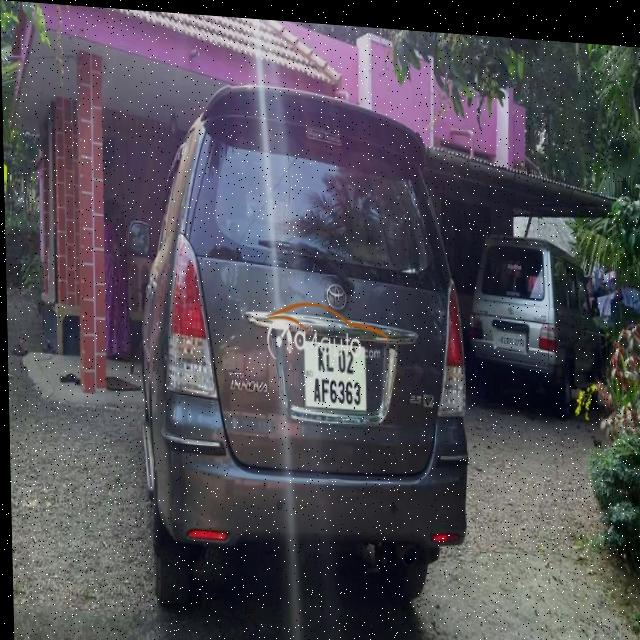plate: (299, 336, 367, 409), (497, 325, 523, 342)
